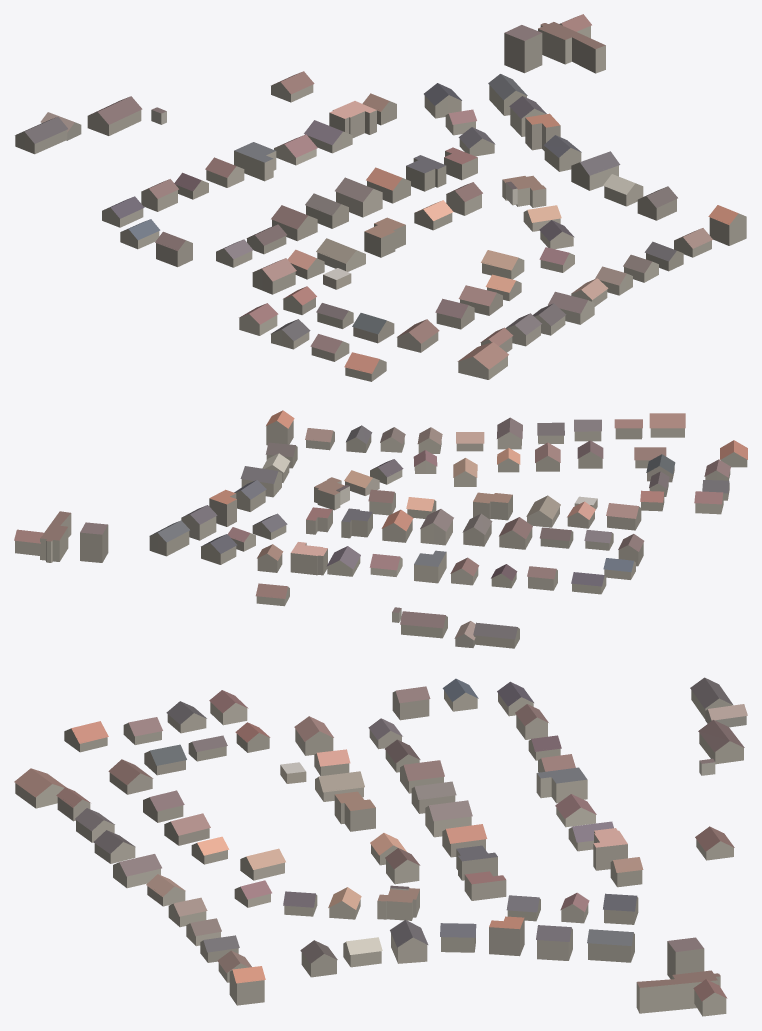
3 renders of one model, top to bottom at view 1: azimuth 30°, elevation 25°; view 2: azimuth 150°, elevation 25°; view 3: azimuth 270°, elevation 25°, orthographic. The views are drawn at different scales.
Parts seen in each view (by area): view 1: tuile; view 2: tuile; view 3: tuile.
Boxes of the visible parts, x1,y1,x2,y2 form: tuile: (15,14,746,381); tuile: (14,410,747,648); tuile: (14,677,747,1016).
Size of the model in its own units: 247 by 27.09 by 255.
